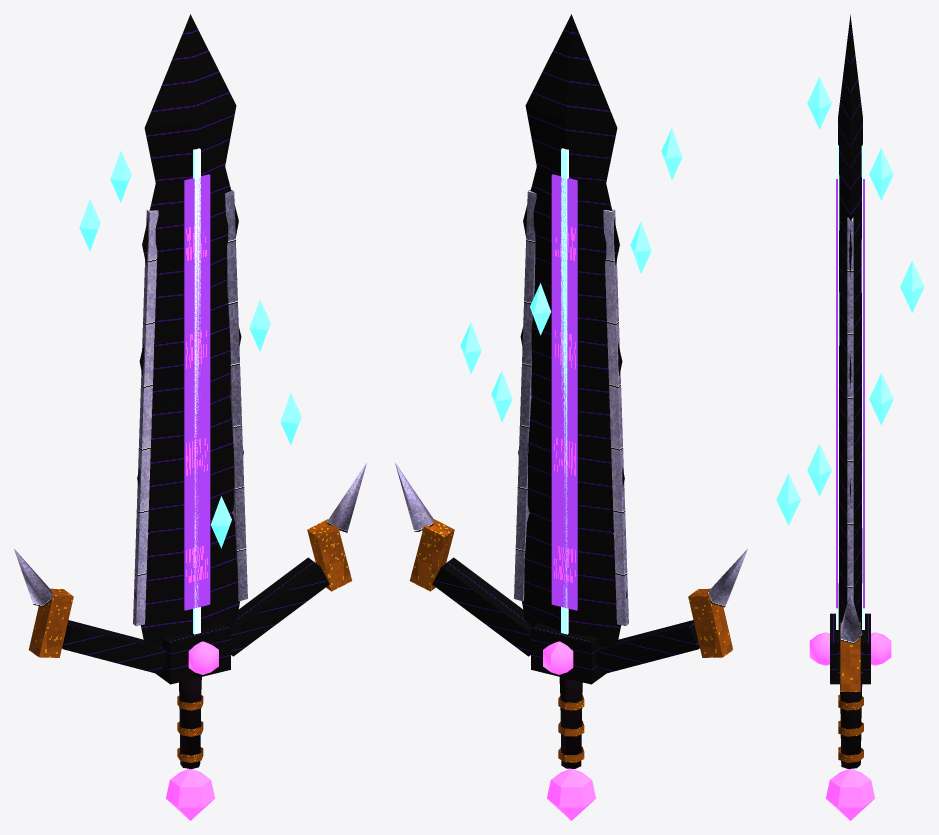
The model's file is w_weltenspalter.glb.
The picture shows the model from 3 angles, left to right: view 1: azimuth 30°, elevation 25°; view 2: azimuth 150°, elevation 25°; view 3: azimuth 270°, elevation 25°; orthographic projection.
Visible parts, largest first — view 1: blade, runes1, edge-1, edge1, wing1, wing-1, guardC, coreline, wingG-1, wingG1, pommel, grip (+3 smaller); view 2: blade, runes-1, edge-1, edge1, wing1, wing-1, coreline, guardC, wingG-1, wingG1, pommel, grip (+3 smaller); view 3: blade, edge1, pommel, coreline, guardC, grip, wingG1, runes1, runes-1, wingSpike1, shard0, shard1 (+6 smaller).
Part boxes in pixels (x1,y1,x2,y2): blade: (134,14,243,647); runes1: (184,174,210,610); edge-1: (133,209,158,625); edge1: (224,189,247,601); wing1: (229,557,329,656); wing-1: (62,620,166,674); guardC: (155,623,230,684); coreline: (193,148,200,634); wingG-1: (28,588,73,657); wingG1: (307,519,352,591); pommel: (166,769,214,820); grip: (179,677,201,769); blade: (518,14,627,647); runes-1: (551,174,577,610); edge-1: (603,209,628,625); edge1: (514,189,536,601); wing1: (432,557,532,656); wing-1: (595,620,699,674); coreline: (561,148,568,634); guardC: (531,622,606,684); wingG-1: (688,588,733,657); wingG1: (409,519,454,591); pommel: (547,768,595,820); grip: (559,677,582,768); blade: (838,14,862,632); edge1: (847,217,853,601); pommel: (826,769,874,820); coreline: (836,143,864,629); guardC: (830,613,870,684); grip: (840,684,862,768); wingG1: (840,622,860,691); runes1: (836,179,837,608); runes-1: (863,179,864,608); wingSpike1: (840,592,862,643); shard0: (776,473,800,525); shard1: (807,444,831,496).
Bounding box in the file's own units: 1.98 × 4.32 × 0.72.
Materials: 8 (5 with a texture image).
